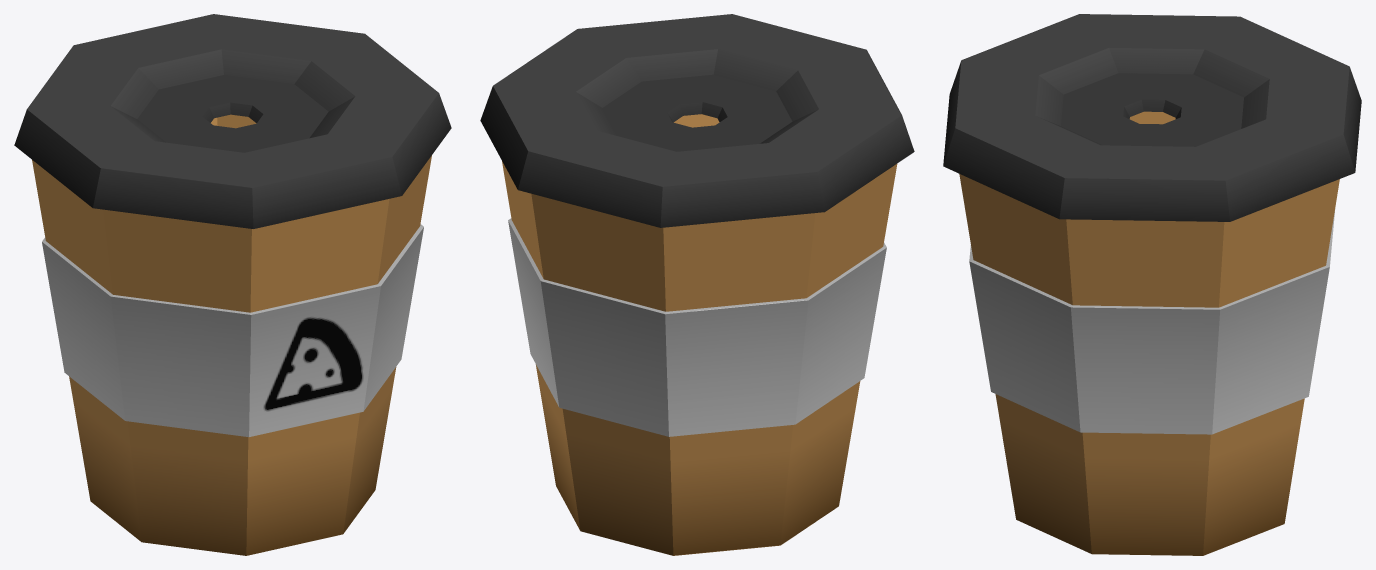
The model's file is Special Cup.glb.
3 renders of one model, left to right at view 1: azimuth 30°, elevation 25°; view 2: azimuth 150°, elevation 25°; view 3: azimuth 270°, elevation 25°, orthographic.
Visible parts, largest first — view 1: Cylinder_Cylinder.001, Cylinder.001_Cylinder.006; view 2: Cylinder_Cylinder.001, Cylinder.001_Cylinder.006; view 3: Cylinder_Cylinder.001, Cylinder.001_Cylinder.006.
Part boxes in pixels (x1,y1,x2,y2): Cylinder_Cylinder.001: [32, 114, 431, 555]; Cylinder.001_Cylinder.006: [14, 14, 451, 228]; Cylinder_Cylinder.001: [502, 114, 897, 555]; Cylinder.001_Cylinder.006: [480, 14, 914, 227]; Cylinder_Cylinder.001: [959, 111, 1339, 555]; Cylinder.001_Cylinder.006: [943, 14, 1361, 221].
Size of the model in its own units: 0.458 by 0.4842 by 0.458.
Materials: 3 (3 with a texture image).
